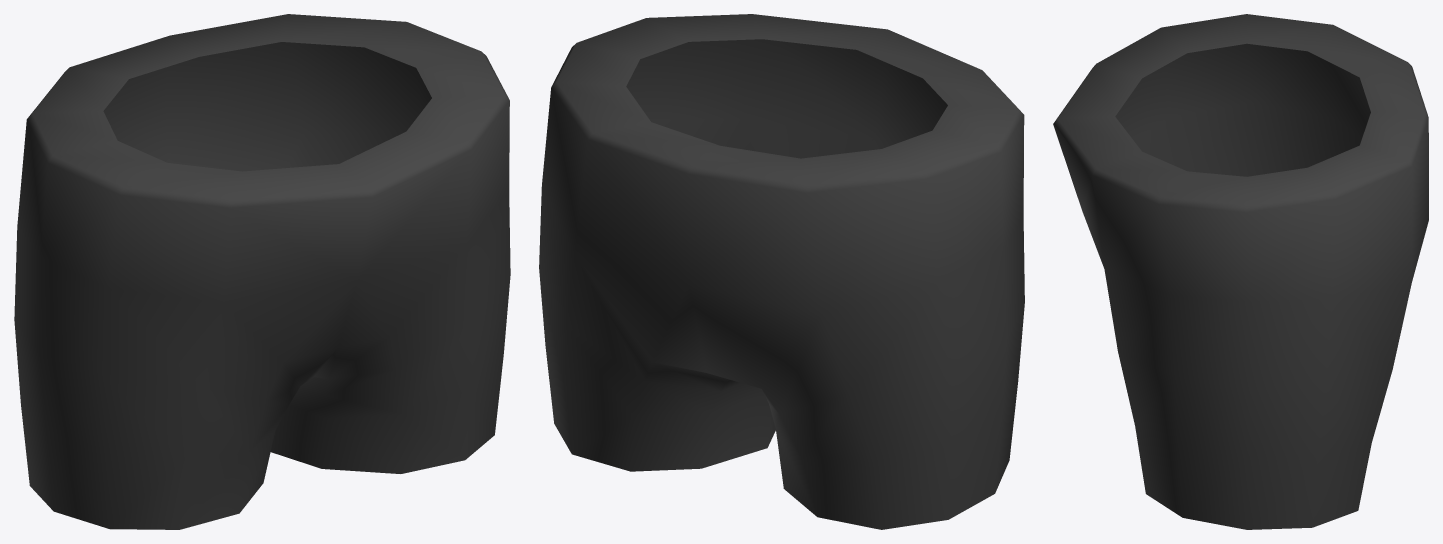
File: Pants_Black_005.glb
3 renders of one model, left to right at view 1: azimuth 30°, elevation 25°; view 2: azimuth 150°, elevation 25°; view 3: azimuth 270°, elevation 25°, orthographic. The views are drawn at different scales.
Parts seen in each view (by area): view 1: Pants_Black_005; view 2: Pants_Black_005; view 3: Pants_Black_005.
Boxes of the visible parts, left/top/right/bottom form: Pants_Black_005: left=14, top=14, right=510, bottom=529; Pants_Black_005: left=539, top=14, right=1024, bottom=529; Pants_Black_005: left=1053, top=14, right=1428, bottom=529.
Bounding box in the file's own units: 0.4529 × 0.3473 × 0.3561.
Materials: 1 (1 with a texture image).
